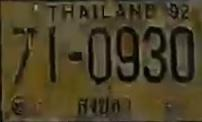0: (169, 25, 194, 82), (87, 26, 111, 83)
1: (48, 25, 56, 82)
3: (142, 25, 166, 82)
7: (12, 26, 37, 84)
9: (115, 25, 139, 81)
SKA: (76, 92, 135, 117)
